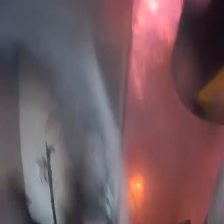fire_h: (130, 2, 182, 98)
fire_l: (130, 175, 143, 197)
